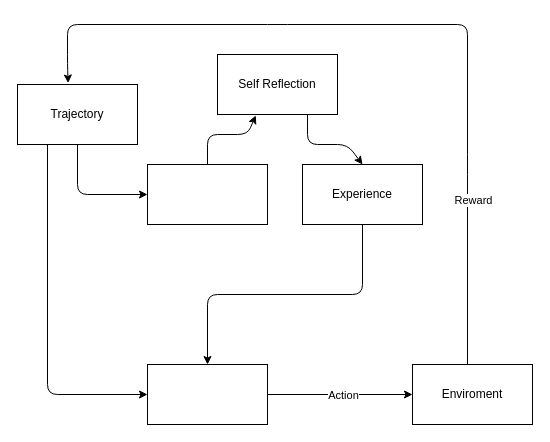
This 550x442 diagram has some shape labels left out. Here are the shapes that lost their labels. From the top down, the centre of each, then its label:
(x=207, y=194): Evaluator
(x=207, y=394): Actor
